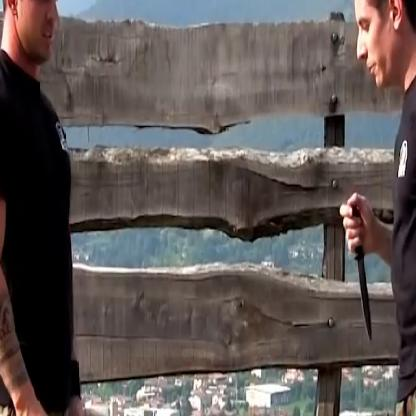knife: (334, 184, 376, 344)
